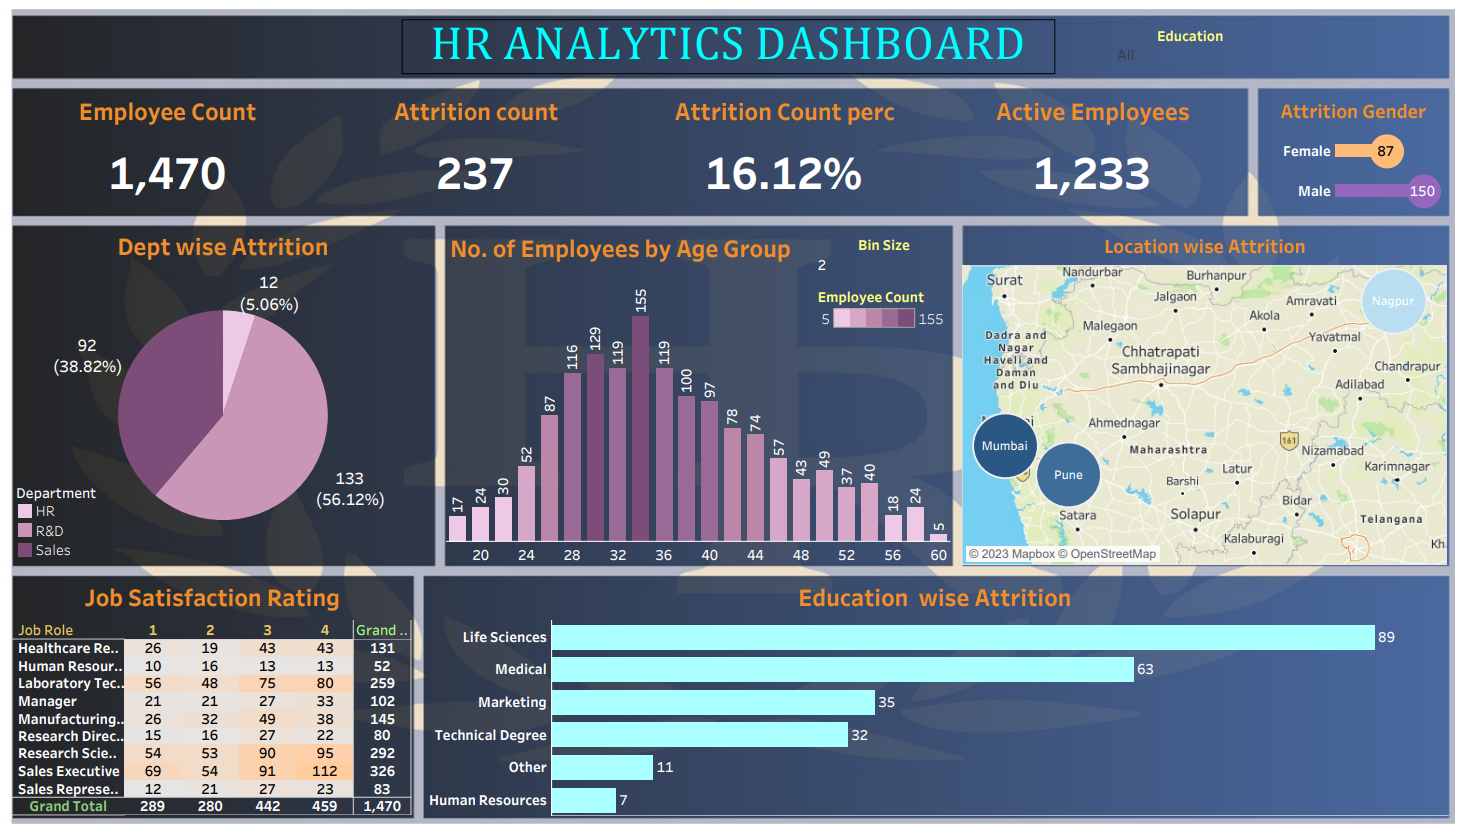

Layout of this report page (visuals, bound fields, positions):
{"tool":"tableau","page":{"name":"HR Analytics Dashboard","canvas":[1580,900],"ordinal":0},"visuals":[{"type":"image","param":"D:/my stuff/CDAC VITA/Data Visualization/Tableau Project/background image.png","box":[8,8,1564,884]},{"type":"text","box":[437,23,702,59]},{"type":"filter","title":"Dept wise Attrition","param":"[federated.1mnktwm1598ybu17pn6q51oiaue2].[none:Education:nk]","box":[1204,29,160,52]},{"type":"worksheet","title":"KPI","mark":"Automatic","box":[20,98,1325,136]},{"type":"worksheet","title":"Attrition Gender","mark":"Automatic","rows":["Gender"],"cols":["Calculation_817121897147244544","Calculation_817121897147244544"],"box":[1360,101,198,128]},{"type":"worksheet","title":"Dept wise Attrition","mark":"Pie","box":[18,243,454,362]},{"type":"worksheet","title":"No. of Employees by Age Group","mark":"Automatic","rows":["Employee Count"],"cols":["Age (bin)"],"box":[485,245,541,364]},{"type":"worksheet","title":"Location wise Attrition","mark":"Circle","box":[1039,246,521,364]},{"type":"parameter","param":"[Parameters].[Parameter 1]","box":[882,254,146,49]},{"type":"legend","title":"No. of Employees by Age Group","param":"[federated.1mnktwm1598ybu17pn6q51oiaue2].[sum:Employee Count:qk]","box":[884,307,140,52]},{"type":"legend","title":"Dept wise Attrition","param":"[federated.1mnktwm1598ybu17pn6q51oiaue2].[none:Department:nk]","box":[22,519,140,85]},{"type":"worksheet","title":"Job Satisfaction Rating","mark":"Square","rows":["Job Role"],"cols":["Job Satisfaction"],"box":[19,620,429,259]},{"type":"worksheet","title":"Education  wise Attrition","mark":"Automatic","rows":["Education Field"],"cols":["Calculation_817121897147244544"],"box":[458,620,1103,259]}]}

Visuals, with their boxes in screenshot pixels (x1, y1, x2, y2), scaled from the page's 1580x900 canvas onto the 1468x836 screenshot:
image: BBox(7, 7, 1461, 829)
text: BBox(406, 21, 1058, 76)
"Dept wise Attrition" filter: BBox(1119, 27, 1267, 75)
"KPI" worksheet: BBox(19, 91, 1250, 217)
"Attrition Gender" worksheet: BBox(1264, 94, 1448, 213)
"Dept wise Attrition" worksheet (Pie marks): BBox(17, 226, 439, 562)
"No. of Employees by Age Group" worksheet: BBox(451, 228, 953, 566)
"Location wise Attrition" worksheet (Circle marks): BBox(965, 229, 1449, 567)
parameter: BBox(819, 236, 955, 281)
"No. of Employees by Age Group" legend: BBox(821, 285, 951, 333)
"Dept wise Attrition" legend: BBox(20, 482, 151, 561)
"Job Satisfaction Rating" worksheet (Square marks): BBox(18, 576, 416, 816)
"Education  wise Attrition" worksheet: BBox(426, 576, 1450, 816)
